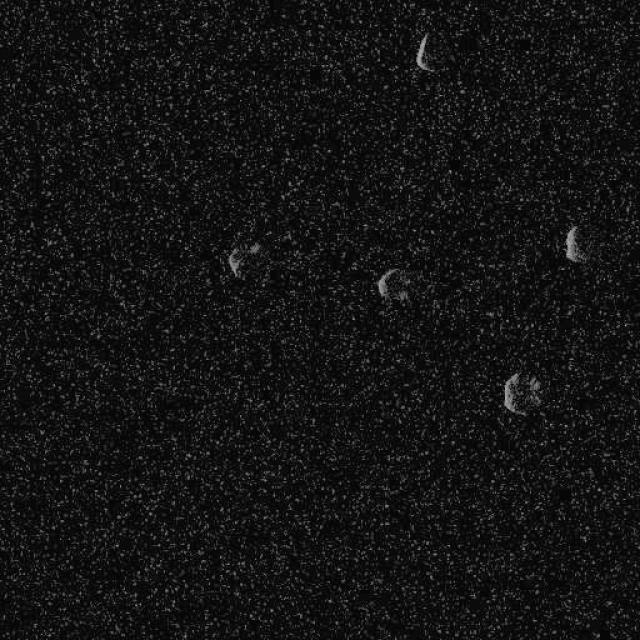D2: (502, 369, 542, 416), (225, 239, 261, 280), (375, 266, 411, 306), (562, 224, 586, 264), (414, 30, 435, 72)
